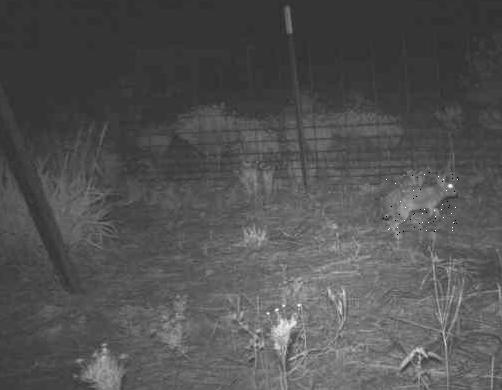Rabbit: (380, 173, 459, 236)
